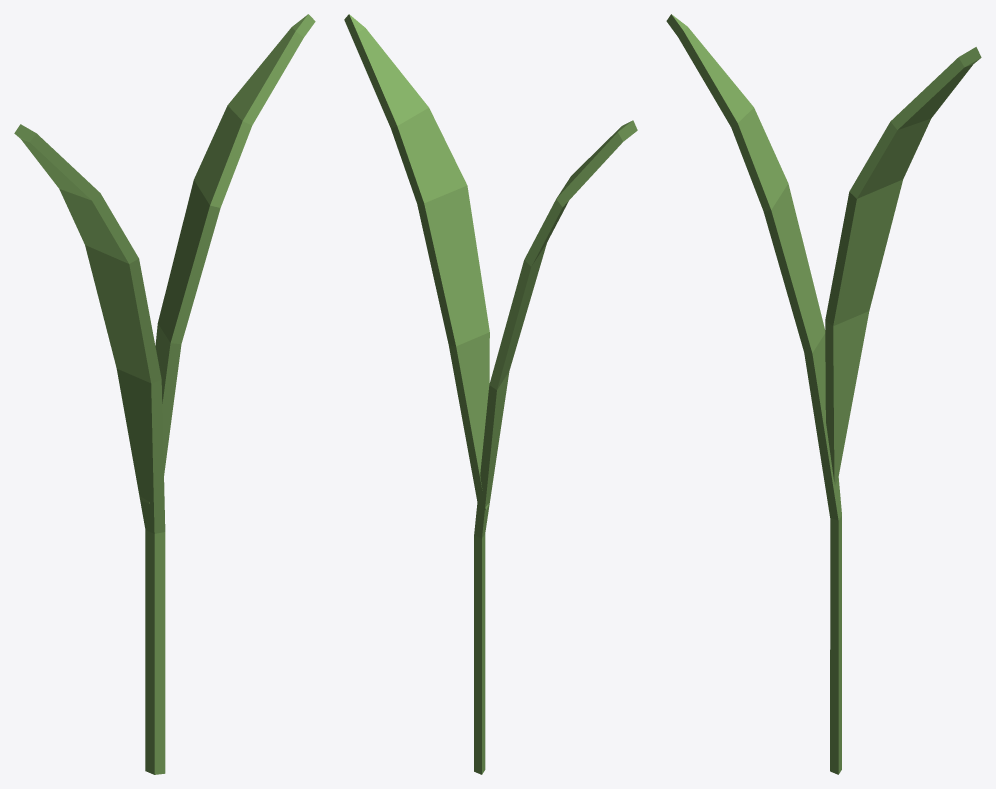
Rendered from Corn_1.glb.
The picture shows the model from 3 angles, left to right: view 1: azimuth 30°, elevation 25°; view 2: azimuth 150°, elevation 25°; view 3: azimuth 330°, elevation 25°; orthographic projection. The views are drawn at different scales.
Parts seen in each view (by area): view 1: Corn_1; view 2: Corn_1; view 3: Corn_1.
Boxes of the visible parts, x1,y1,x2,y2 form: Corn_1: [14, 14, 315, 774]; Corn_1: [344, 14, 637, 774]; Corn_1: [666, 14, 981, 774].
Bounding box in the file's own units: 0.1668 × 0.3874 × 0.0322.
